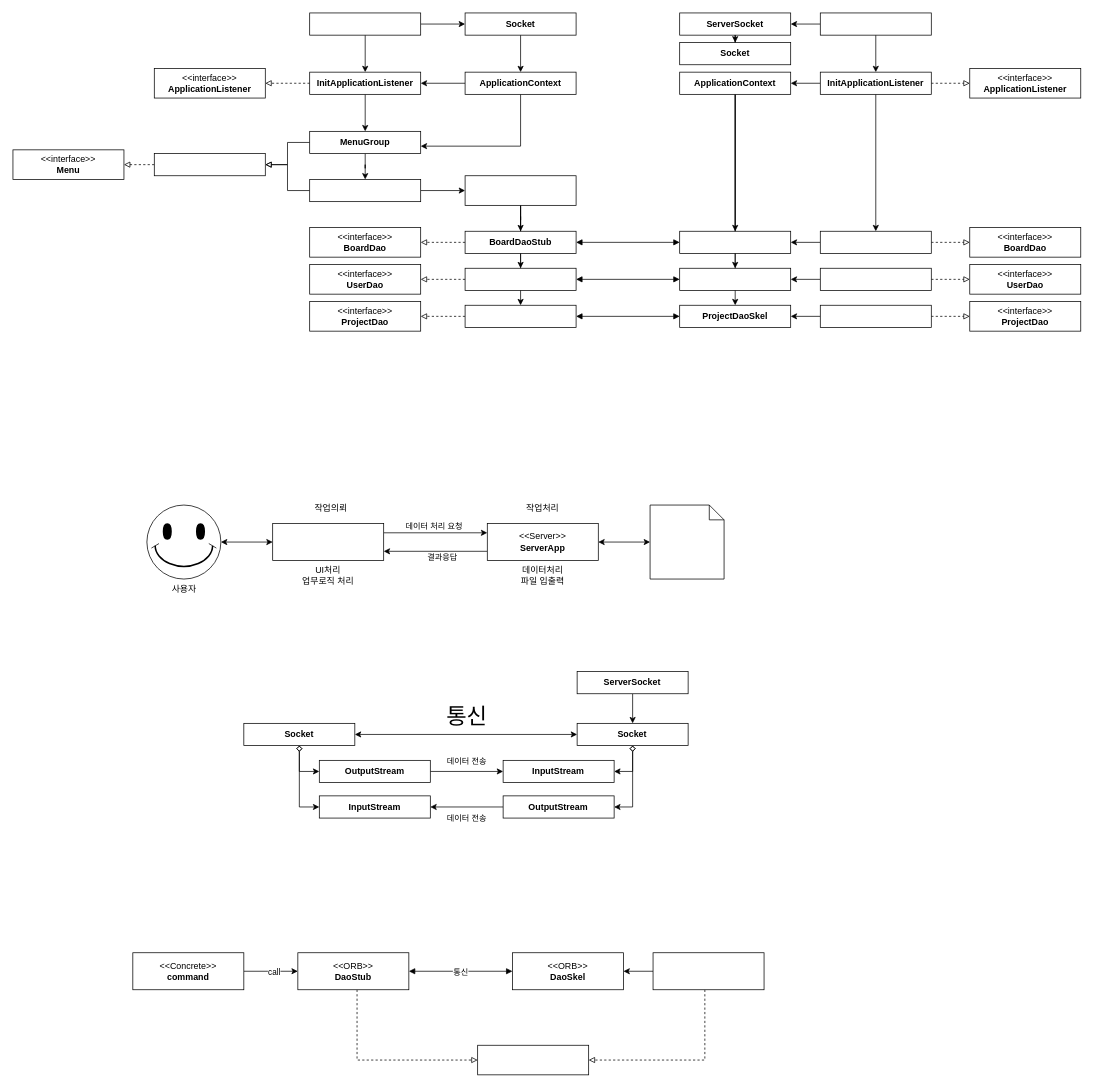
This 1094x1088 diagram has some shape labels left out. Each missing label, with the box of its shape:
<<Client>> ClientApp: (272, 523, 384, 561)
<<interface>> Command: (464, 175, 576, 205)
<<interface>> Dao: (477, 1045, 589, 1075)
<<Remote Object>> ListDao: (652, 952, 764, 990)
AbstractMenu: (154, 153, 265, 176)
BoardDaoSkel: (679, 231, 791, 253)
ClientApp: (309, 12, 421, 35)
ListBoardDao: (820, 231, 931, 253)
ListProjectDao: (820, 305, 931, 327)
ListUserDao: (820, 268, 931, 290)
MenuItem: (309, 179, 421, 202)
ProjectDaoStub: (464, 305, 576, 327)
ServerApp: (820, 12, 931, 35)
UserDaoSkel: (679, 268, 791, 290)
UserDaoStub: (464, 268, 576, 290)
파일: (649, 504, 724, 579)
